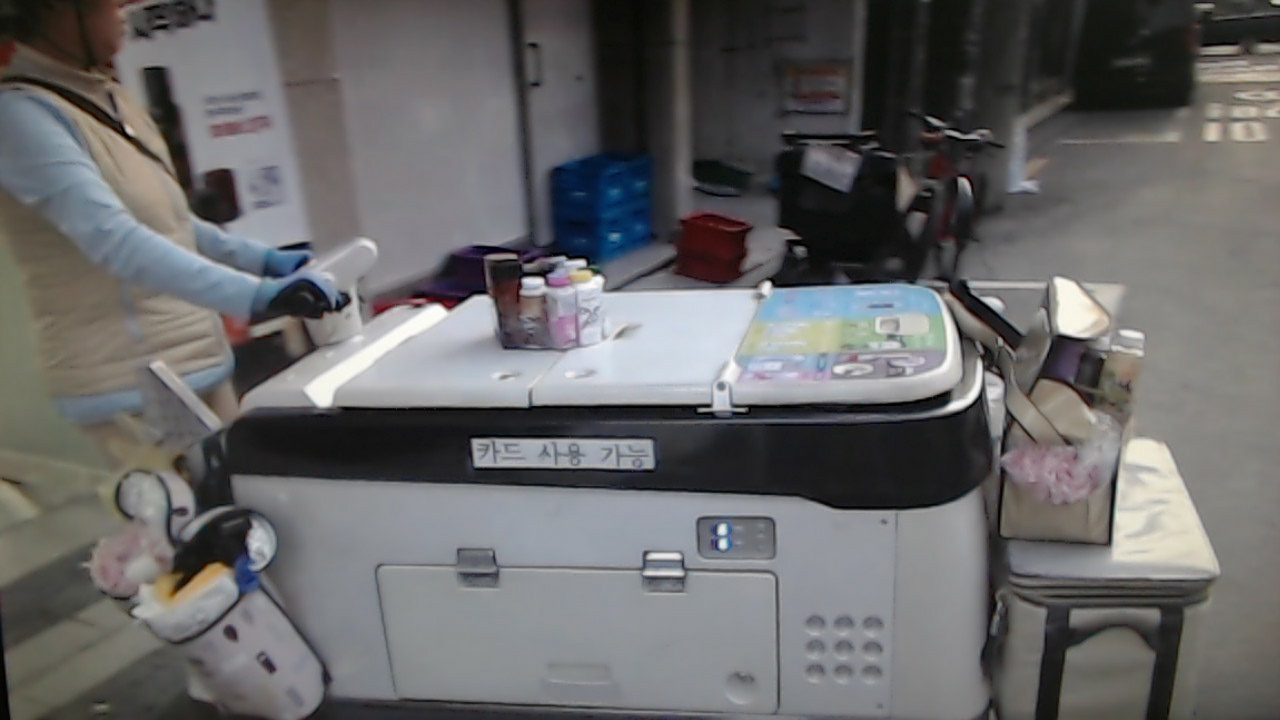Yakurut: (5, 0, 358, 472)
